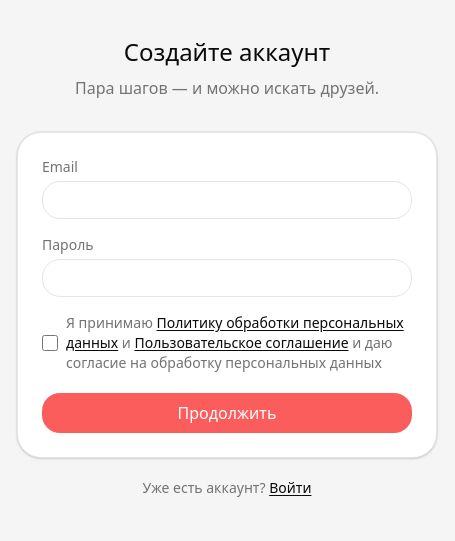
Test: shows a 409 error message when the email is taken
Step 1. Type "a@b.com" into the field labelled "Email" → x=227, y=200, box x1=42 y1=181 x2=412 y2=219
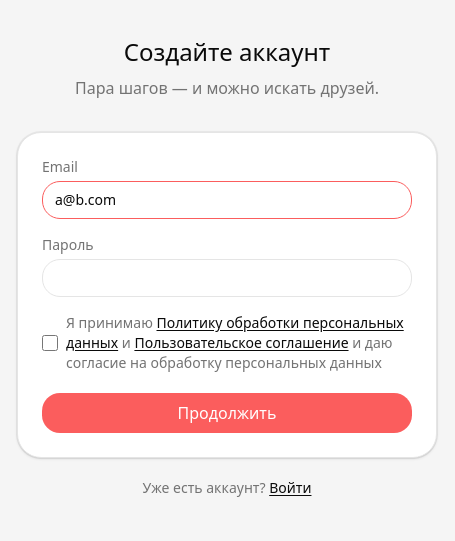
Step 2. Type "password123" into the password field labelled "Пароль" → x=227, y=278, box x1=42 y1=259 x2=412 y2=297
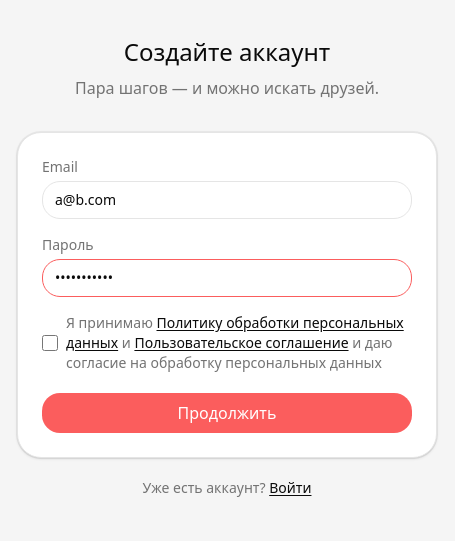
Step 3. Click the checkbox → x=50, y=343, box x1=42 y1=335 x2=58 y2=351
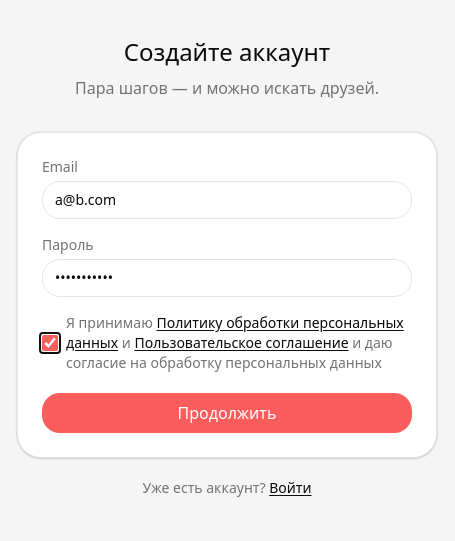
Step 4. Click the button "Продолжить" → x=227, y=413, box x1=42 y1=393 x2=412 y2=433
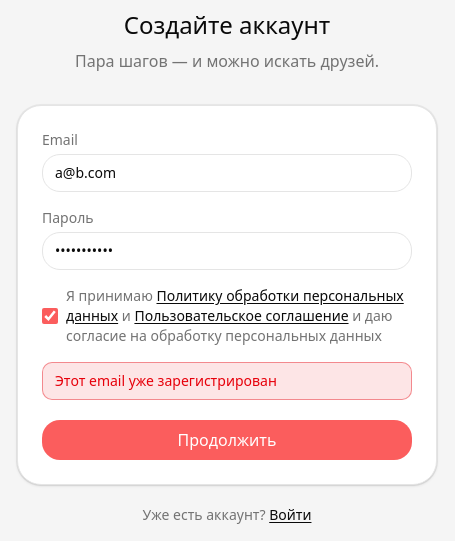
Expected: the text "Этот email уже зарегистрирован" is shown, x1=42 y1=362 x2=412 y2=400
